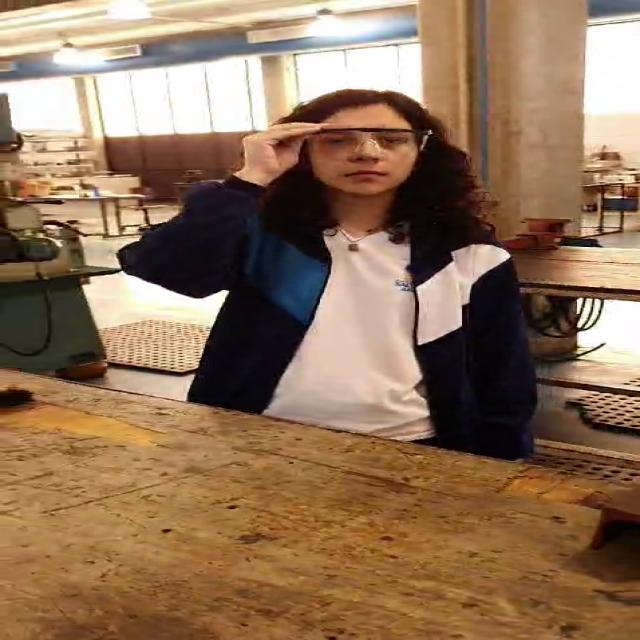oculos-epi: (288, 124, 447, 160)
